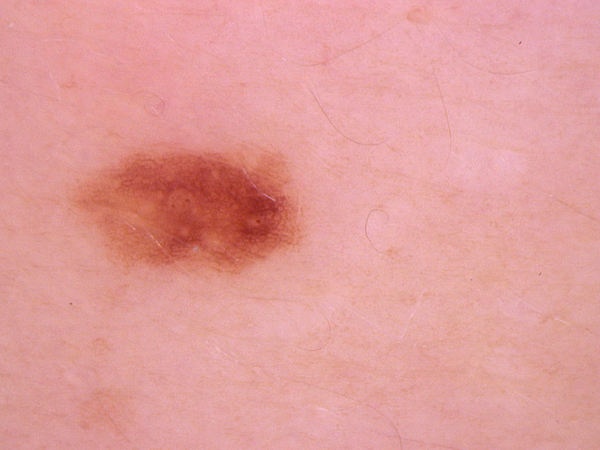Detected Lesion: (64, 140, 315, 279)
